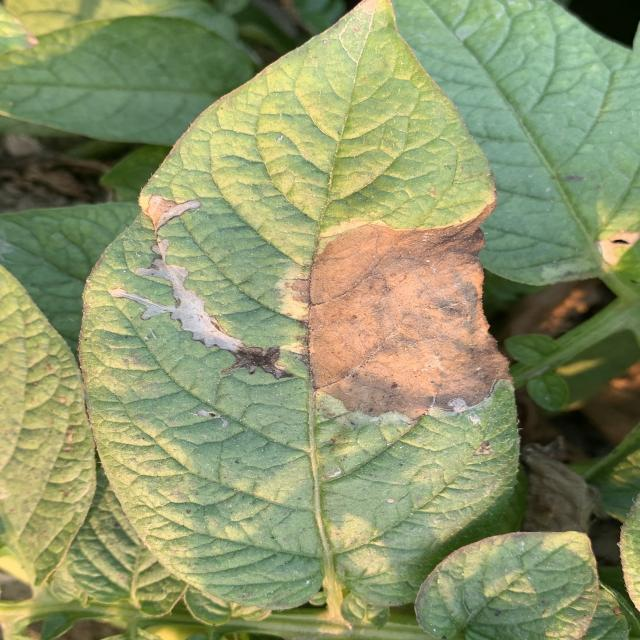lateblight: (308, 210, 510, 420), (108, 195, 288, 379)
